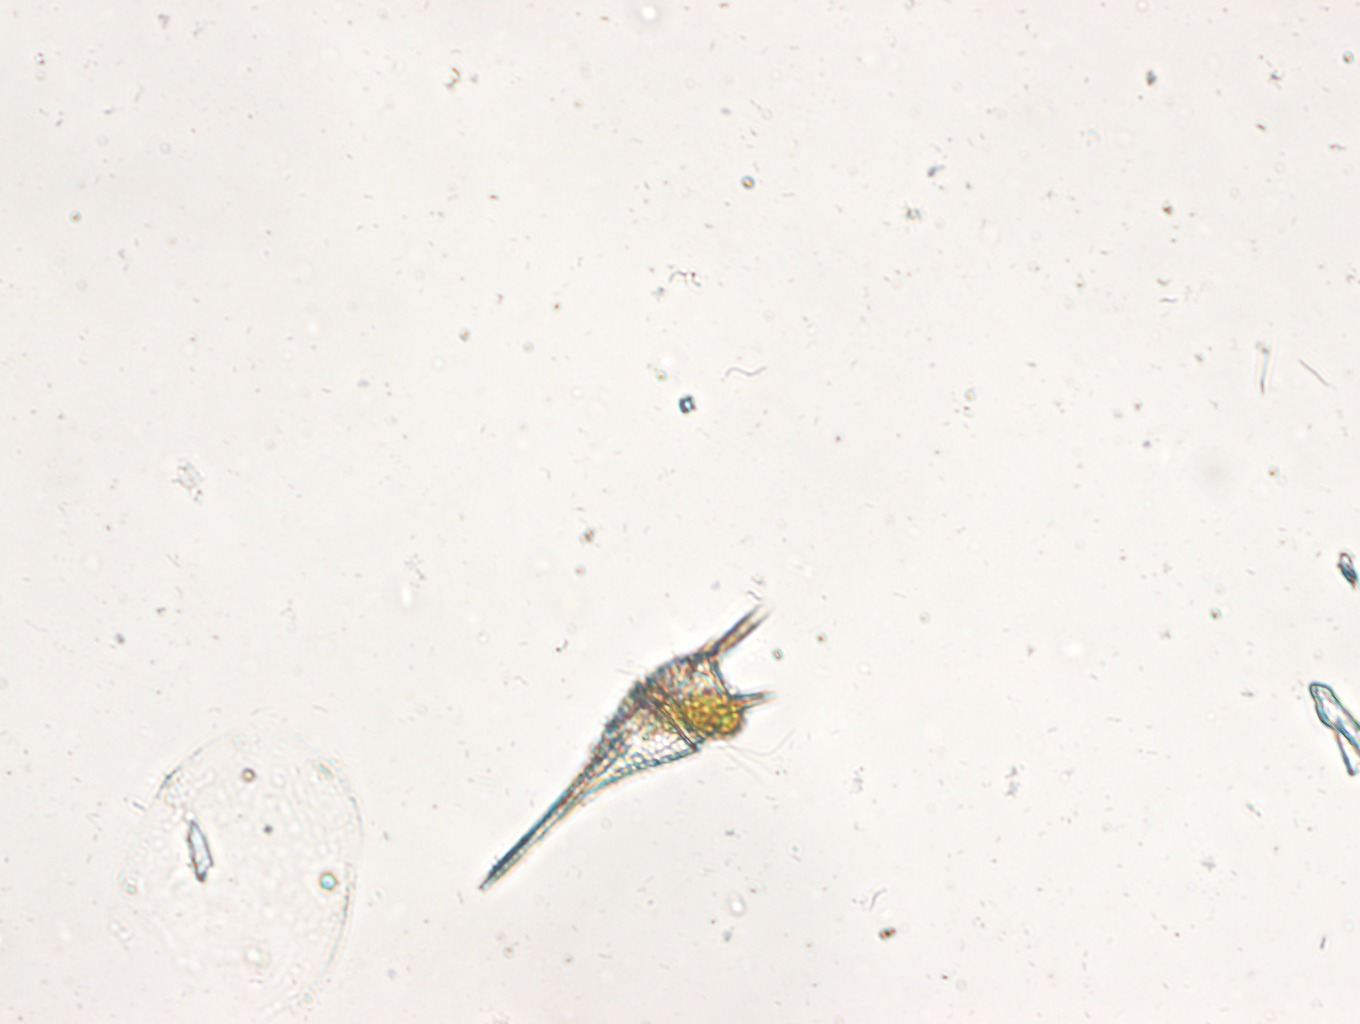ceratium furca: (466, 598, 793, 894)
